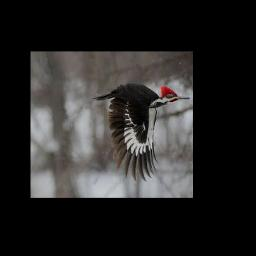Woodpecker: (93, 84, 191, 180)
